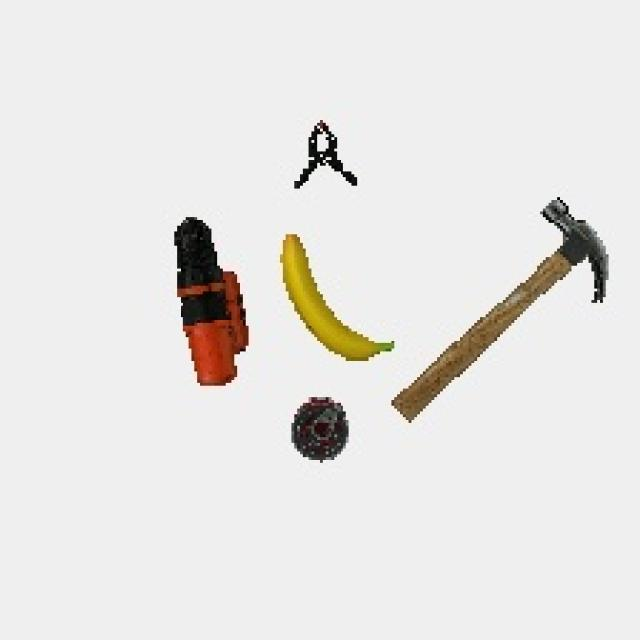Hammer: (390, 195, 624, 442)
MediumClamp: (282, 114, 369, 204)
PowerDrill: (165, 211, 258, 404)
TomatoSoupCan: (282, 391, 356, 470)
